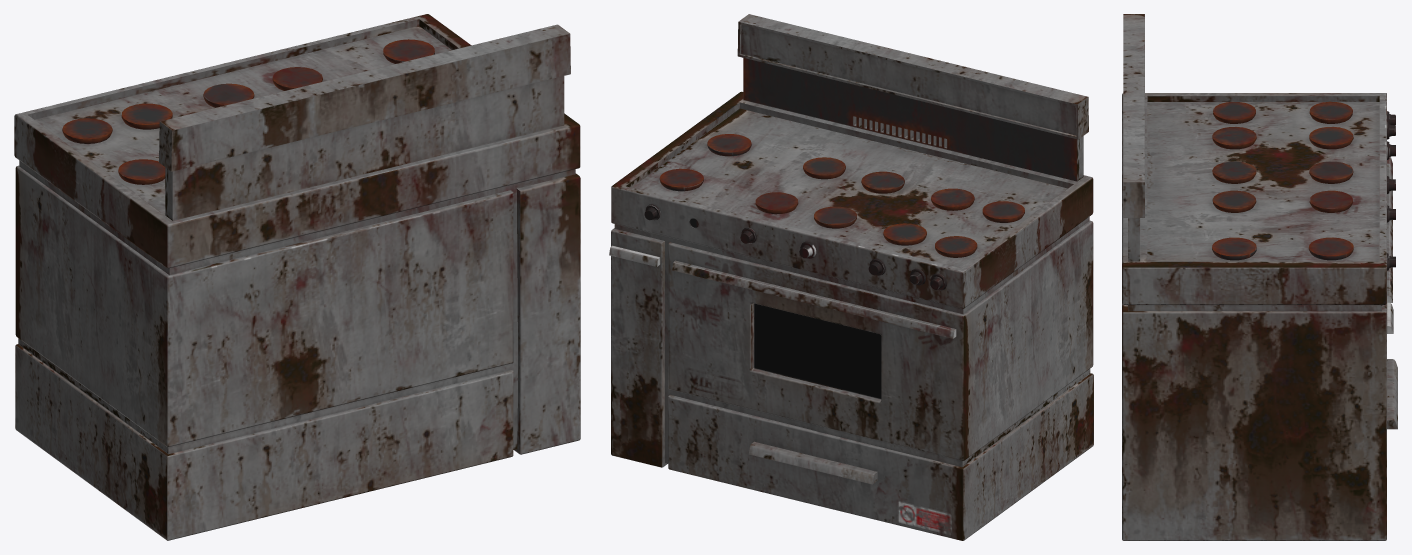
Rendered from big_old_rusted_oven.glb.
3 renders of one model, left to right at view 1: azimuth 30°, elevation 25°; view 2: azimuth 150°, elevation 25°; view 3: azimuth 270°, elevation 25°, orthographic. The views are drawn at different scales.
Parts seen in each view (by area): view 1: Big oven.002_31; view 2: Big oven.002_31; view 3: Big oven.002_31.
Part boxes in pixels (bbox=[...]): Big oven.002_31: bbox=[14, 14, 580, 540]; Big oven.002_31: bbox=[609, 14, 1093, 540]; Big oven.002_31: bbox=[1122, 14, 1397, 540].
Size of the model in its own units: 1.98 by 1.87 by 1.32.
Materials: 1 (1 with a texture image).
